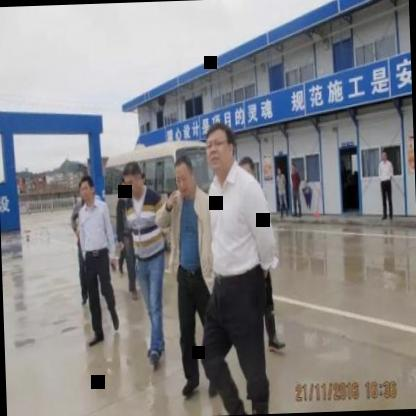head: (204, 121, 236, 174), (174, 150, 198, 200), (124, 160, 148, 200), (237, 154, 256, 186), (77, 172, 95, 201)
